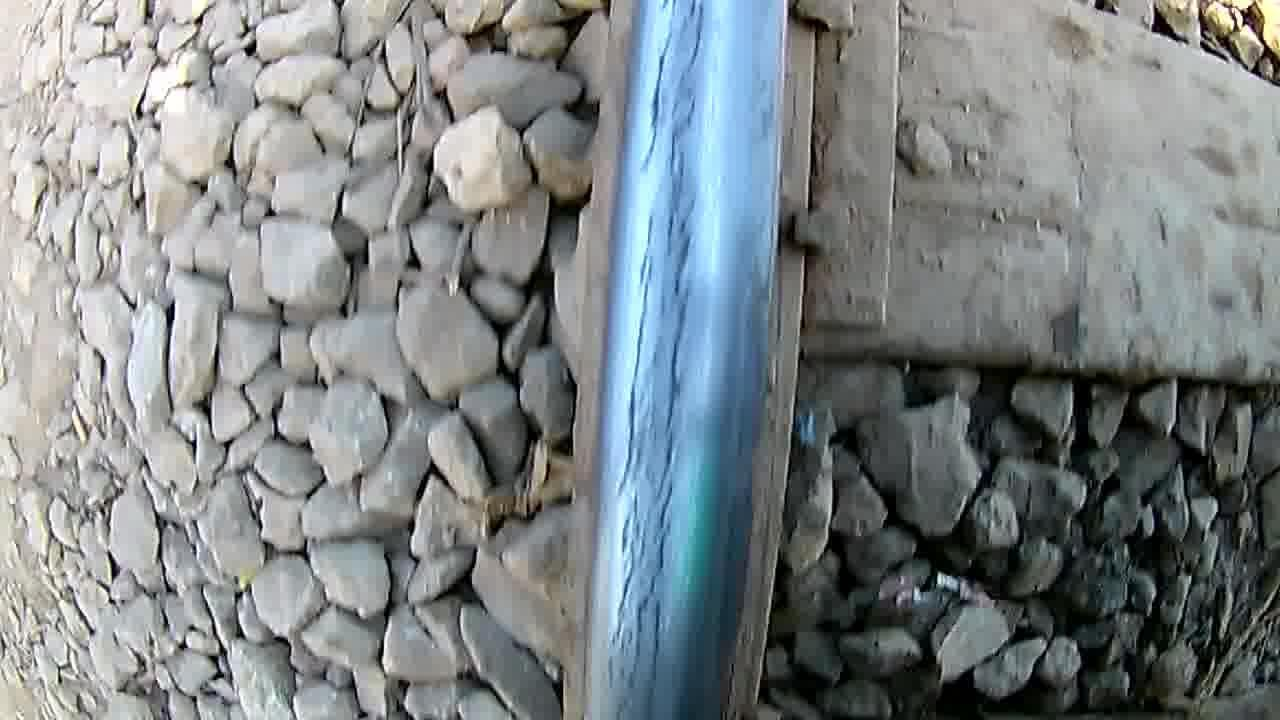crack: (613, 4, 723, 708)
